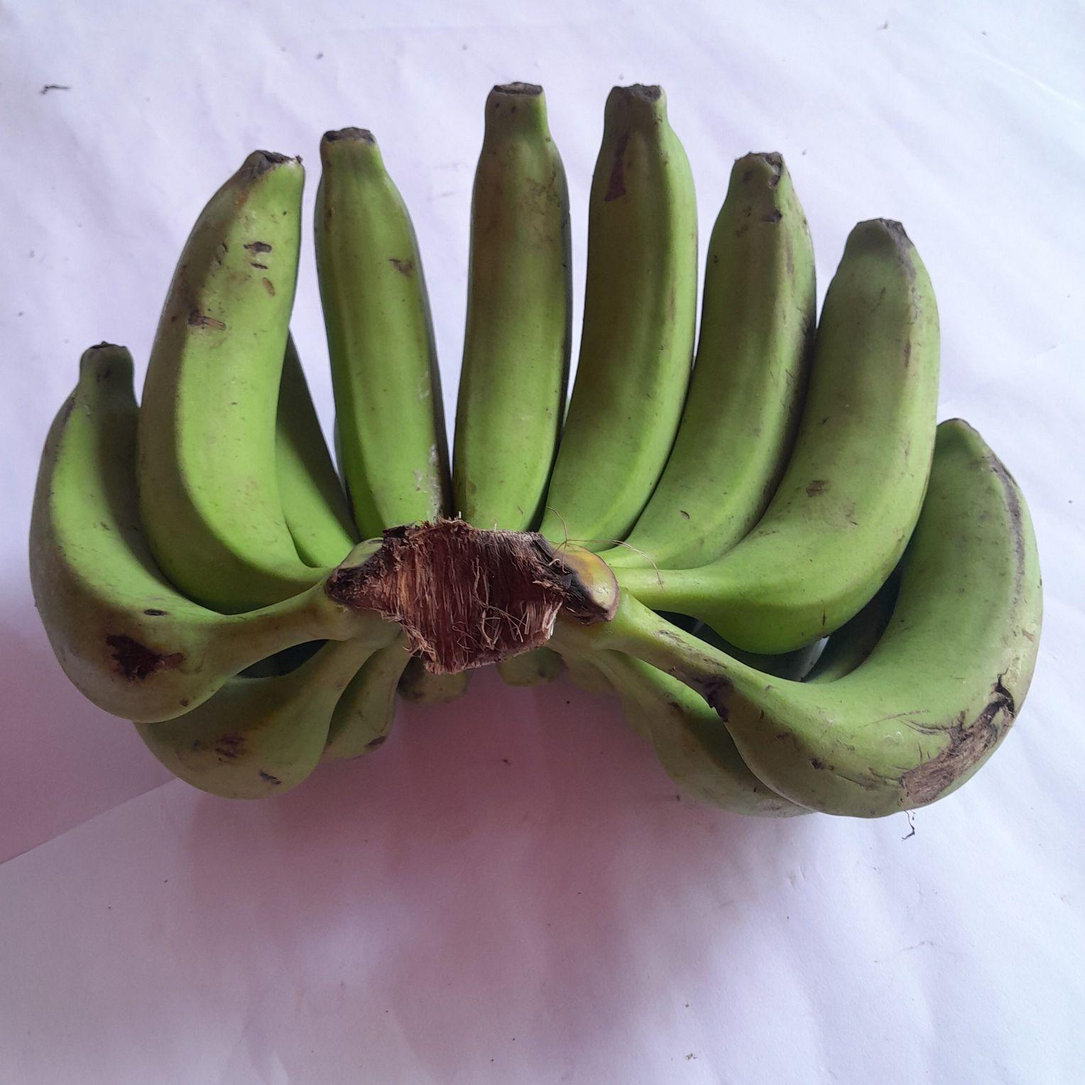Banana Unripe: (576, 420, 1043, 818), (617, 218, 939, 653), (30, 345, 396, 723), (606, 153, 816, 569), (138, 150, 322, 611), (540, 85, 697, 551), (316, 127, 449, 538), (453, 83, 572, 531), (138, 640, 375, 798), (322, 634, 409, 761)
